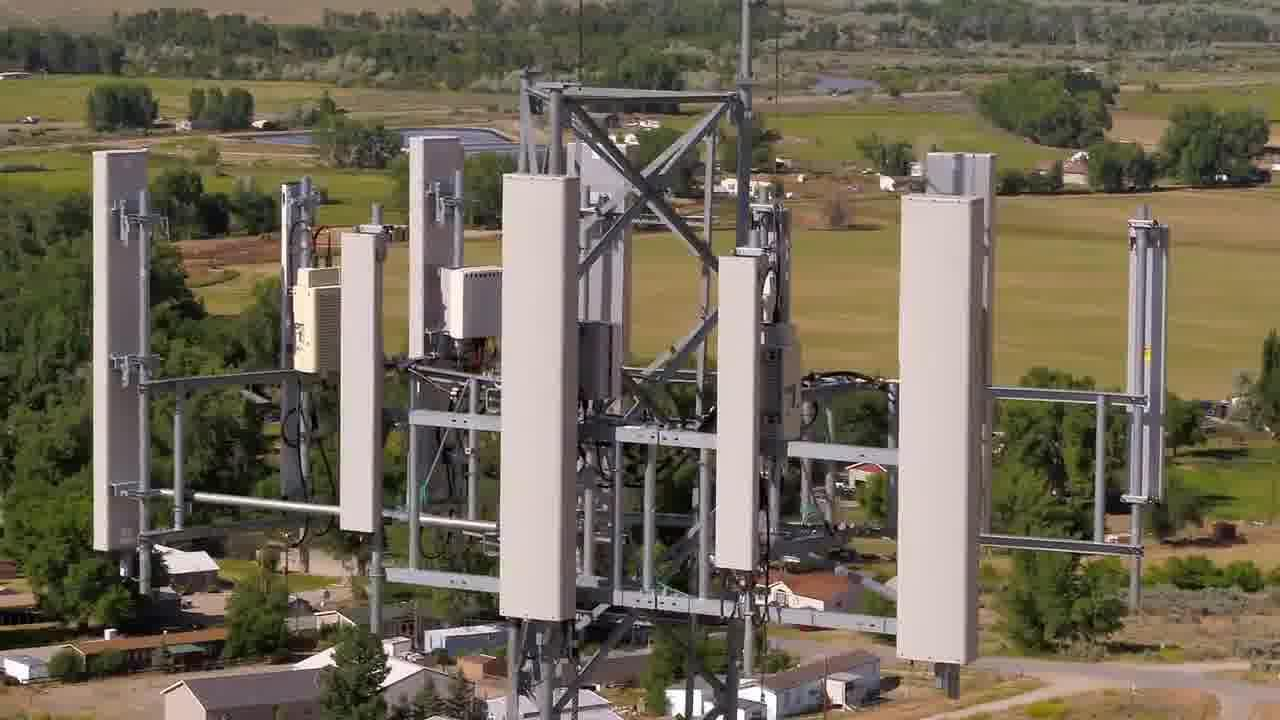antenna: (889, 183, 987, 670), (492, 160, 590, 626), (78, 148, 164, 571), (925, 139, 996, 607), (565, 129, 634, 599), (706, 240, 782, 596), (330, 221, 395, 550), (401, 121, 463, 424), (1127, 202, 1181, 533)
